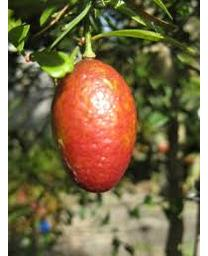lemon: (52, 59, 138, 193)
